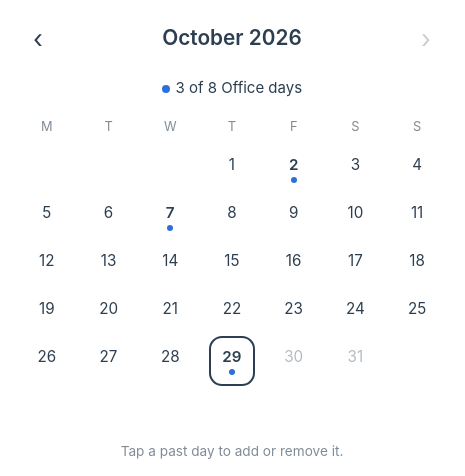
Test: CalendarView › goes back a month, and forward again
What coordinates should you click on to do the following:
click the button named "Previous month"
I would click on:
 (38, 38)
Its box is x1=16 y1=16 x2=60 y2=60.
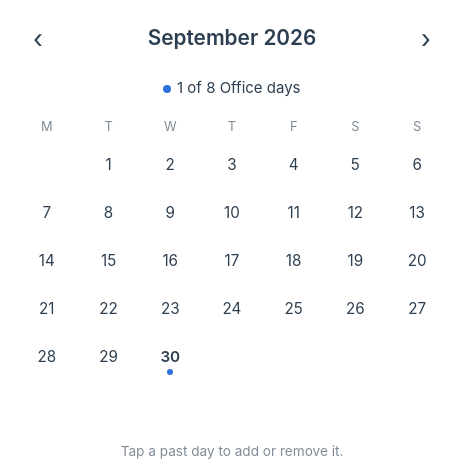
Now the heading "September 2026" is shown, box x1=148 y1=21 x2=316 y2=55
Now the text "1 of 8 Office days" is shown, box x1=164 y1=78 x2=301 y2=97
What coordinates should you click on to do the following:
click the button named "Next month"
I would click on:
 (426, 38)
Its box is x1=404 y1=16 x2=448 y2=60.
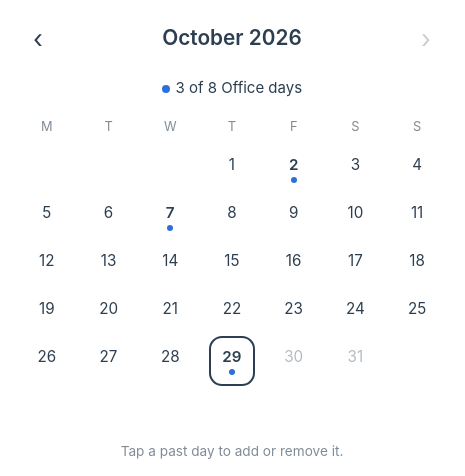
Now the heading "October 2026" is shown, box x1=162 y1=21 x2=302 y2=55
